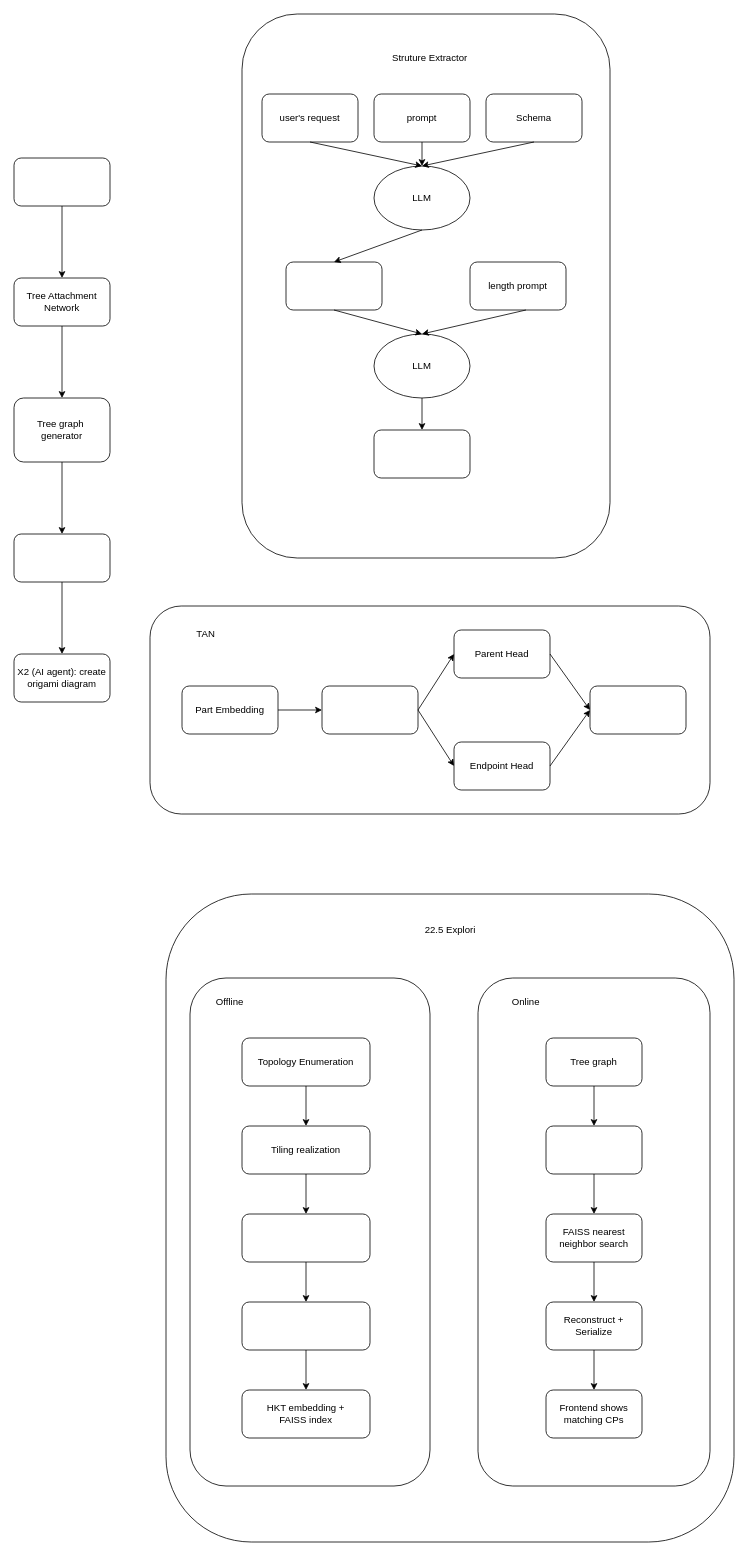
Image size: 748x1556. Some labels were removed from this diagram. The shapes that lost their labels are listed below. From the top down, each one's centre as x and y in pixels, then its label:
At point (61, 181): "Structure Extractor".
At point (333, 285): "structure".
At point (421, 453): "structure with length weight".
At point (61, 557): "Treemaker/ 22.5 explori".
At point (369, 709): "Context Encoder".
At point (637, 709): "Tree Relation".
At point (593, 1149): "Compute HKT of the tree".
At point (305, 1237): "CP build".
At point (305, 1325): "Fold and Slice into Tree".
